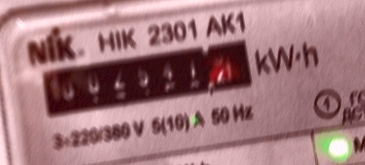0: (57, 73, 79, 101), (84, 67, 102, 95)
1: (183, 51, 200, 79)
2: (108, 63, 128, 90)
4: (160, 55, 176, 80)
5: (133, 58, 155, 89)
6: (212, 64, 230, 84)
screen: (28, 25, 269, 128)
